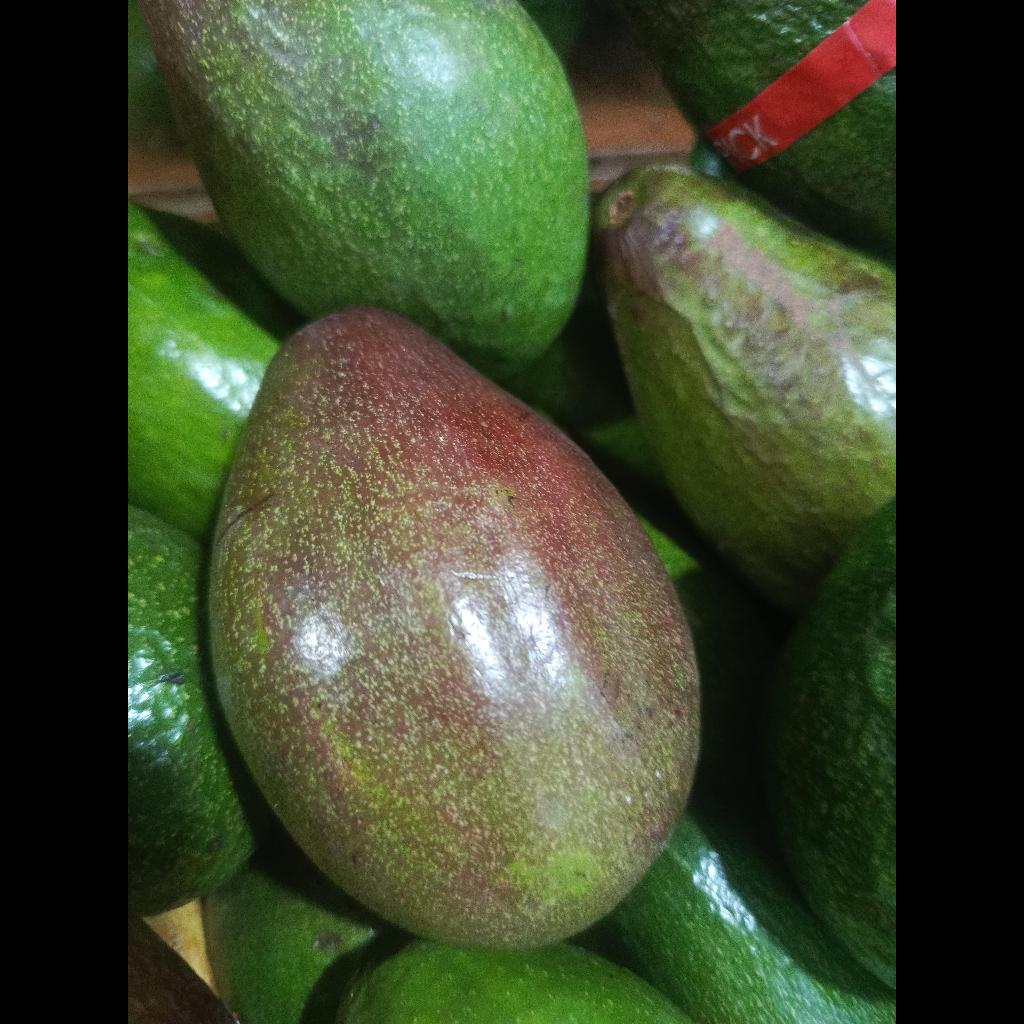anthracnose: (593, 165, 896, 611)
healthy: (209, 307, 699, 947), (140, 0, 589, 380)
